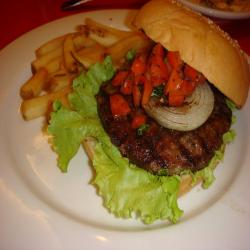burger: (94, 3, 250, 215)
fries: (20, 12, 122, 121)
salad: (45, 70, 121, 203)
